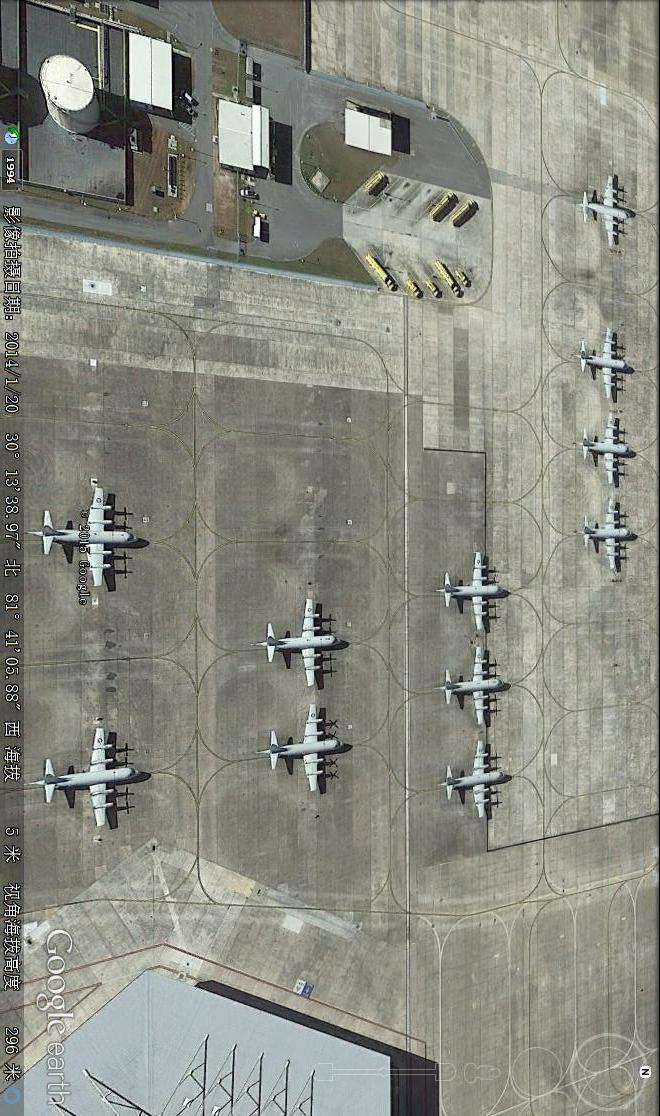P-3C: (38, 718, 146, 831), (36, 483, 140, 593), (262, 594, 347, 689), (263, 702, 345, 797), (440, 735, 506, 828), (438, 644, 505, 732), (440, 546, 505, 636), (579, 494, 637, 576), (578, 321, 632, 400), (579, 414, 635, 490), (579, 174, 633, 248)
